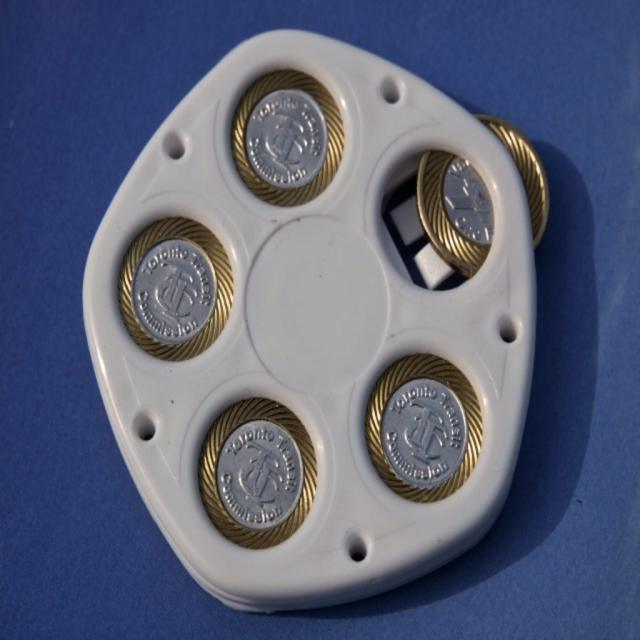Coin: (413, 113, 552, 275), (200, 393, 318, 551), (362, 351, 482, 497), (116, 219, 235, 359), (229, 71, 346, 203)
